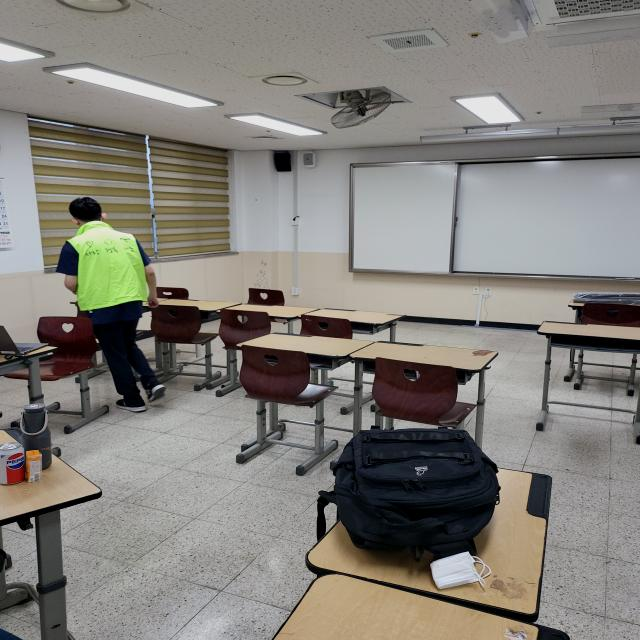weston_spy: (64, 214, 156, 318)
